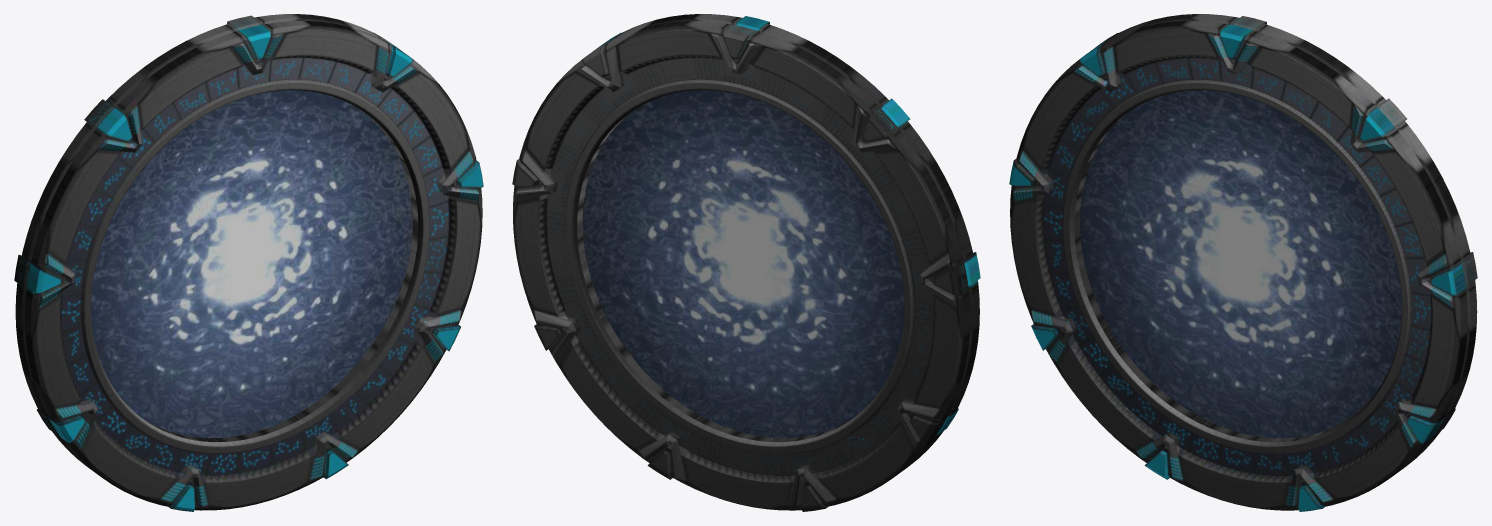
Rendered from portal.dae.
3 renders of one model, left to right at view 1: azimuth 30°, elevation 25°; view 2: azimuth 150°, elevation 25°; view 3: azimuth 330°, elevation 25°, orthographic.
Parts seen in each view (by area): view 1: Group1, Group2; view 2: Group1, Group2; view 3: Group1, Group2.
Part boxes in pixels (x1,y1,x2,y2): Group1: (14,14,483,511); Group2: (91,90,412,438); Group1: (512,14,980,511); Group2: (582,90,904,438); Group1: (1009,14,1477,511); Group2: (1079,90,1401,438).
Bounding box in the file's own units: 285 × 26.76 × 285.
Materials: 4 (4 with a texture image).
